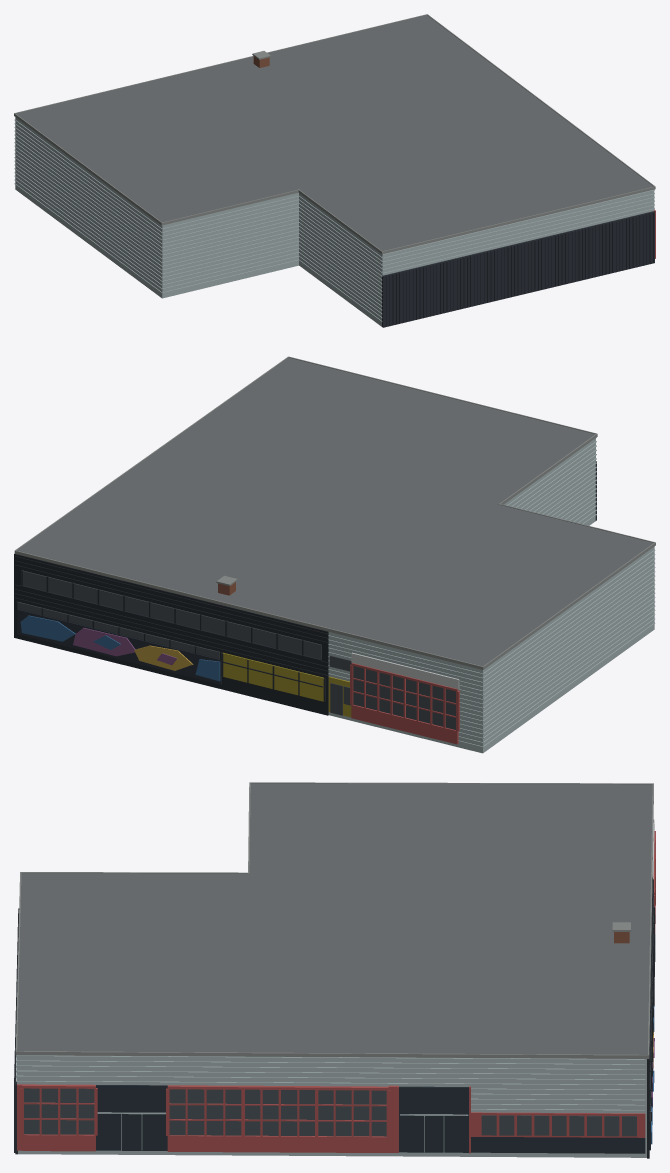
File: lofi.glb
The picture shows the model from 3 angles, top to bottom: view 1: azimuth 30°, elevation 25°; view 2: azimuth 150°, elevation 25°; view 3: azimuth 270°, elevation 25°; orthographic projection. The views are drawn at different scales.
Parts seen in each view (by area): view 1: lofi; view 2: lofi; view 3: lofi.
Part boxes in pixels (x1,y1,x2,y2): lofi: [14, 14, 655, 327]; lofi: [14, 356, 655, 753]; lofi: [14, 782, 655, 1158].
Bounding box in the file's own units: 36.94 × 7.32 × 36.64.
